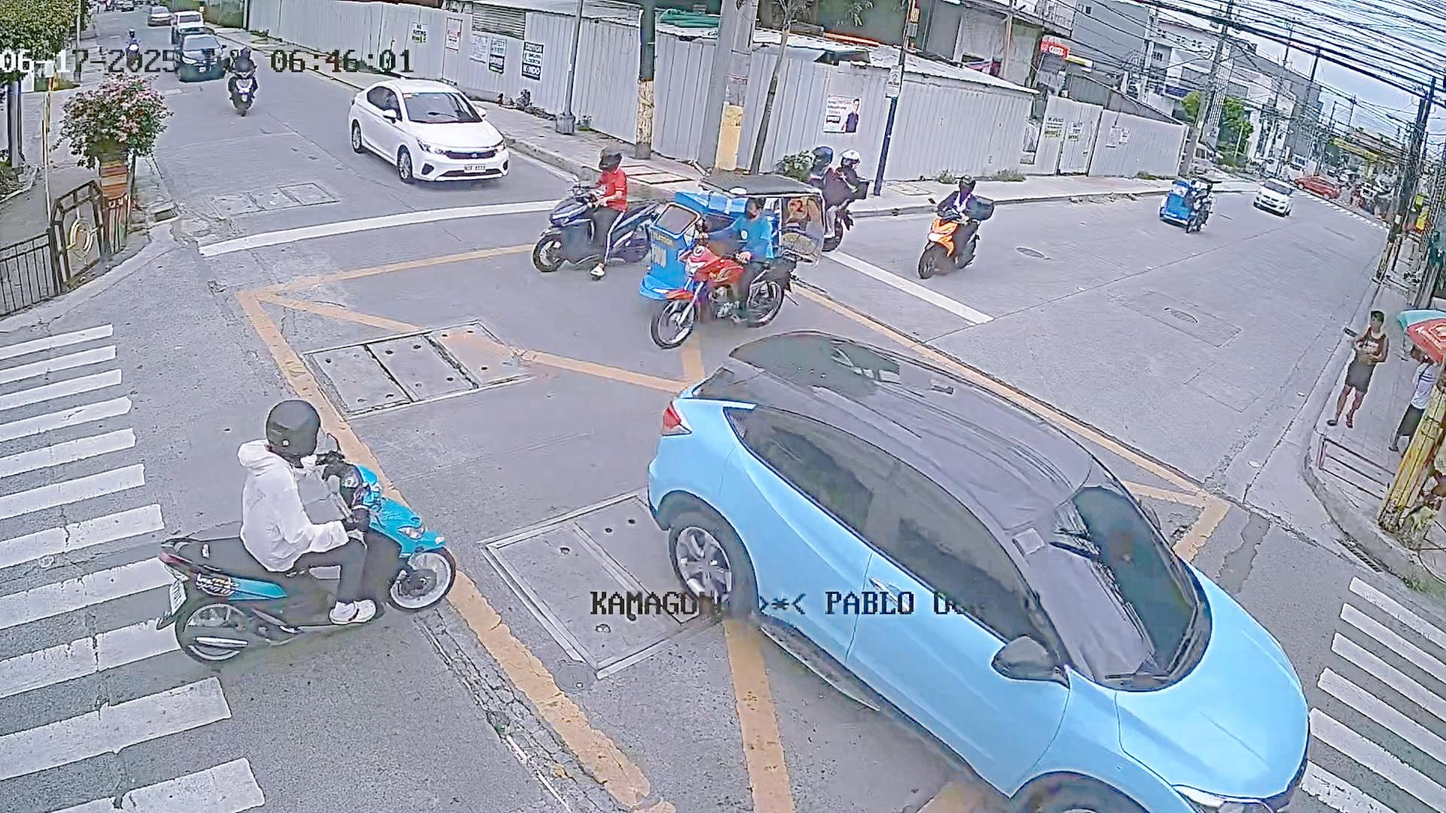Car: (633, 322, 1311, 813), (335, 82, 506, 199), (1255, 177, 1295, 228)
Motor: (94, 393, 459, 652), (616, 241, 798, 324), (530, 171, 621, 301), (900, 213, 984, 294), (219, 40, 259, 121)
